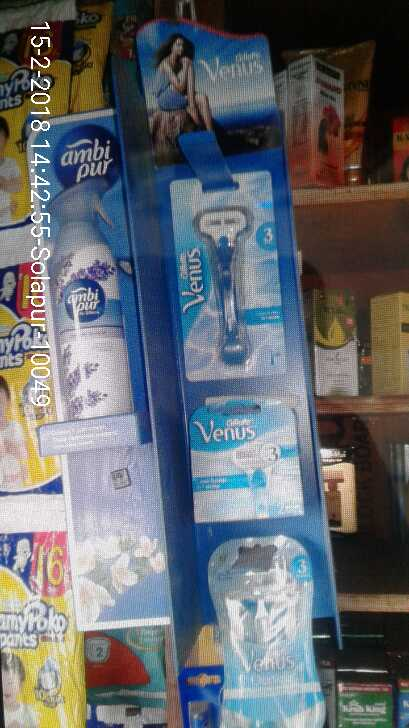beauty: (202, 538, 332, 728), (168, 178, 289, 378), (186, 401, 310, 526)
home: (45, 170, 131, 420)
